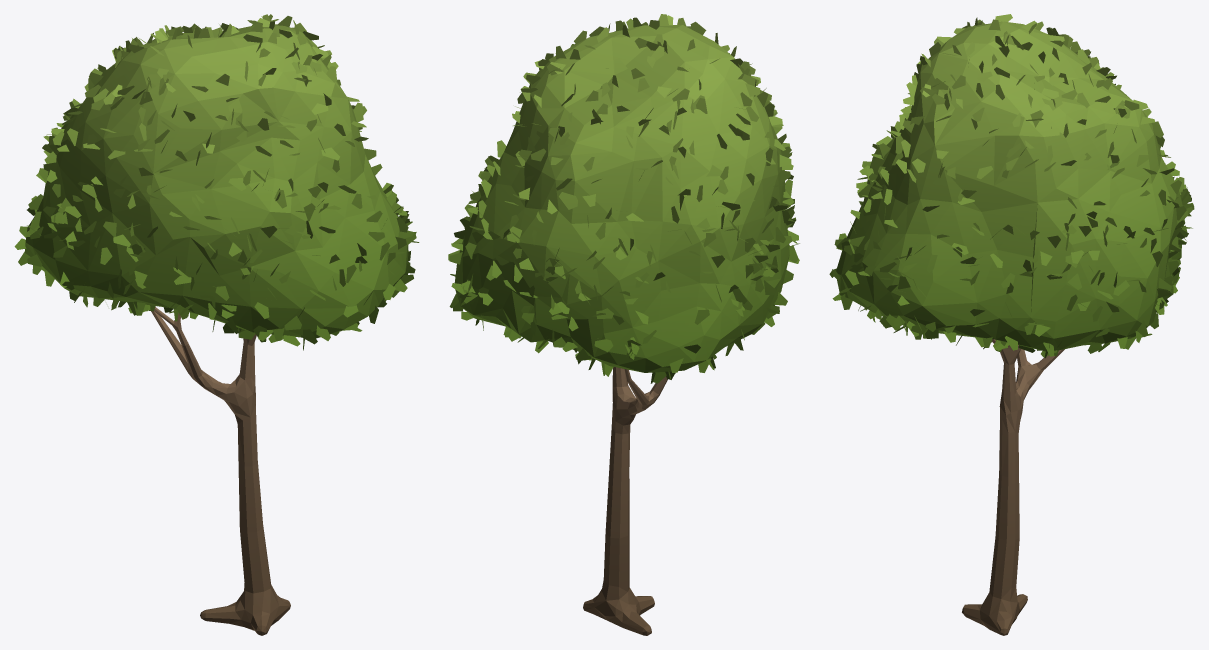
Rendered from Tree_05.fbx.
3 views of the same model, side by side, from view 1: azimuth 30°, elevation 25°; view 2: azimuth 150°, elevation 25°; view 3: azimuth 270°, elevation 25° (orthographic). The views are drawn at different scales.
Parts seen in each view (by area): view 1: Tree_05_LOD0; view 2: Tree_05_LOD0; view 3: Tree_05_LOD0.
Part boxes in pixels (left/top/right/bottom): Tree_05_LOD0: left=14, top=14, right=419, bottom=635; Tree_05_LOD0: left=448, top=14, right=799, bottom=635; Tree_05_LOD0: left=829, top=14, right=1194, bottom=635.
Size of what is drawn, in the model's own units: 3.83 by 7.15 by 4.12.
